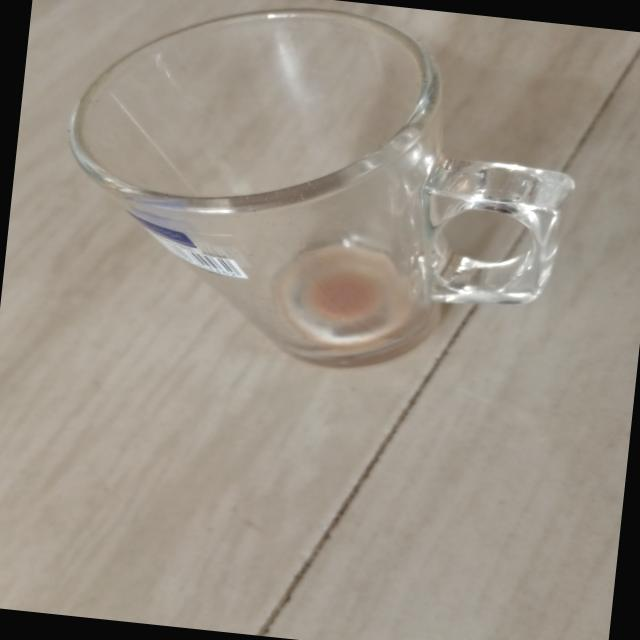glass-VX4N: (49, 0, 582, 394)
